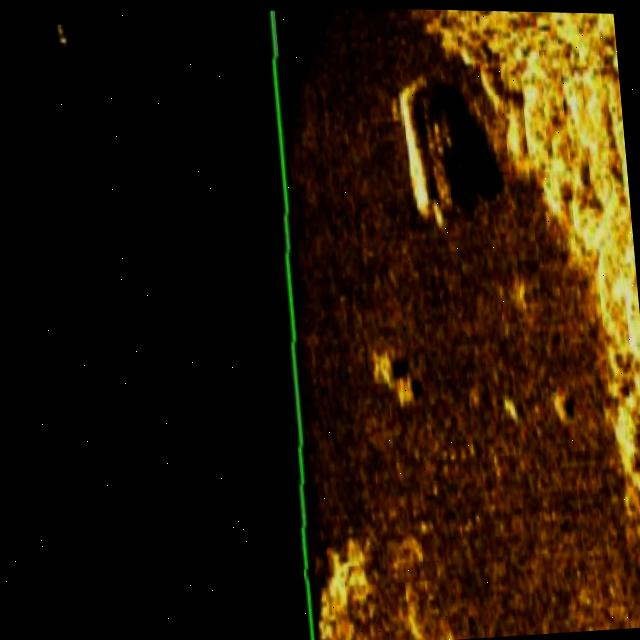bedrock group: (422, 7, 640, 587)
